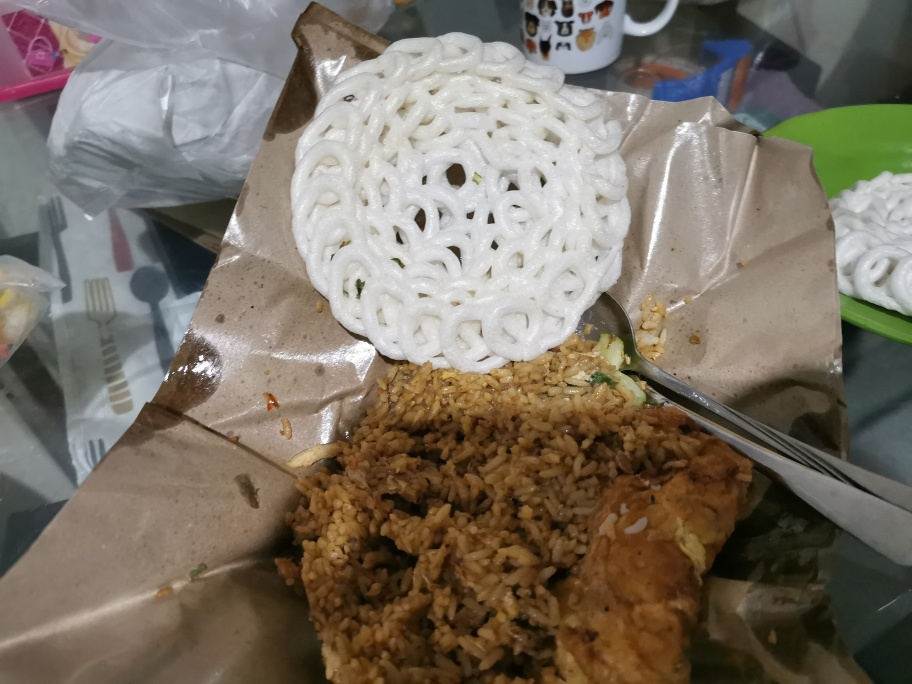kerupuk: (288, 32, 624, 357)
nasi goreng: (302, 361, 748, 684)
